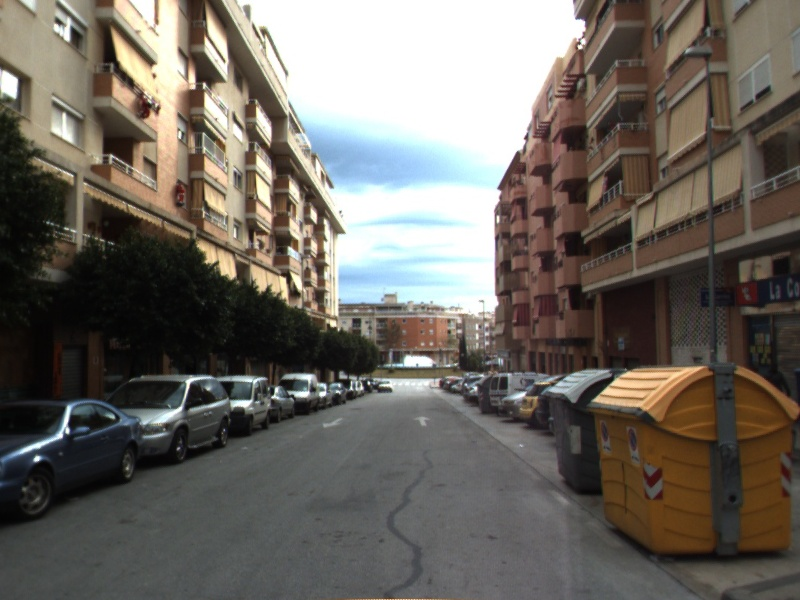STRAIGHT: (411, 414, 432, 428)
